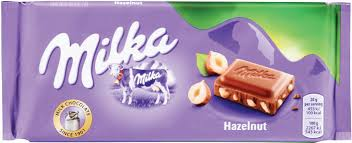Chocolate: (1, 1, 351, 143)
